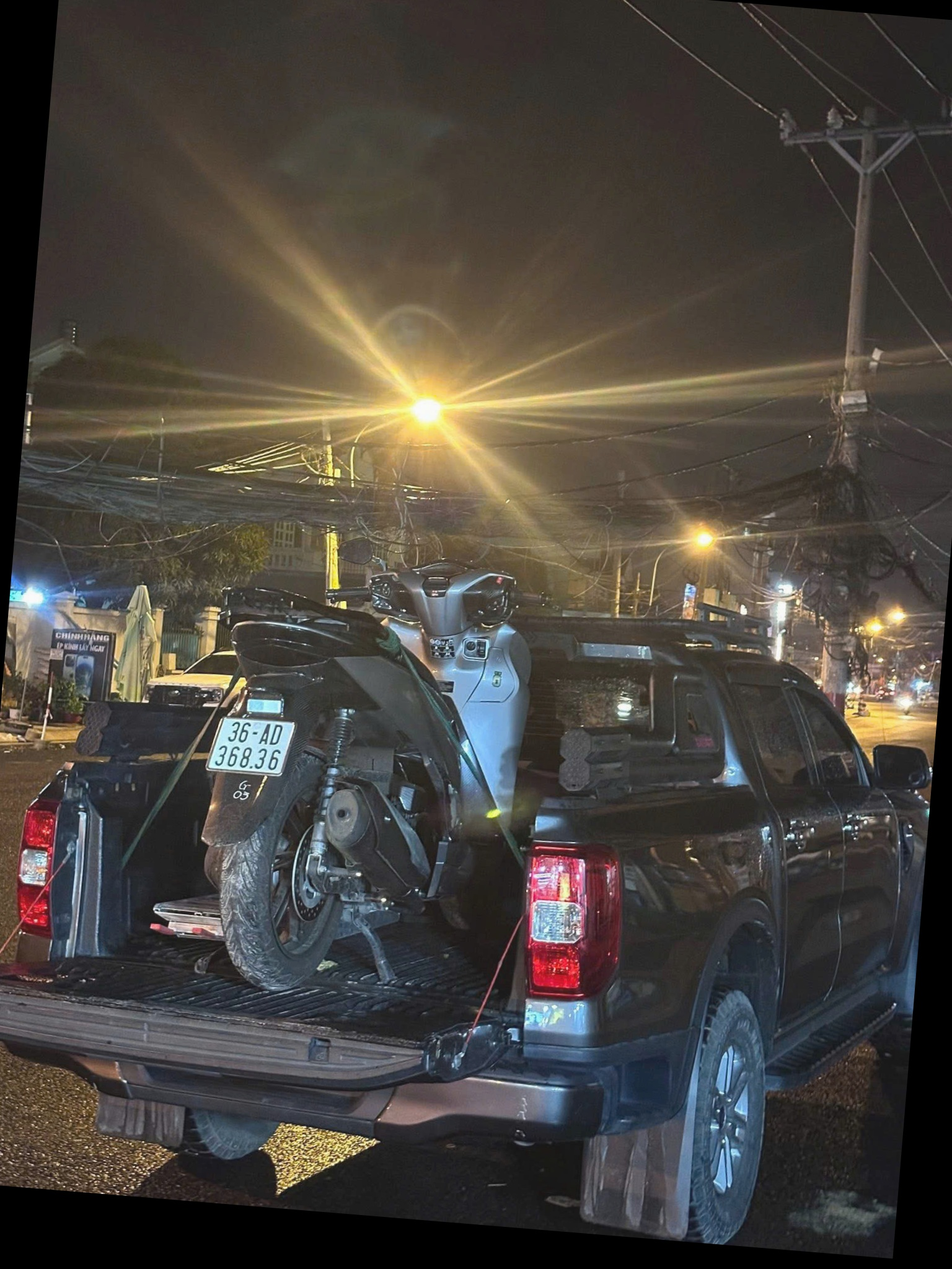Bien-so: (207, 713, 292, 773)
